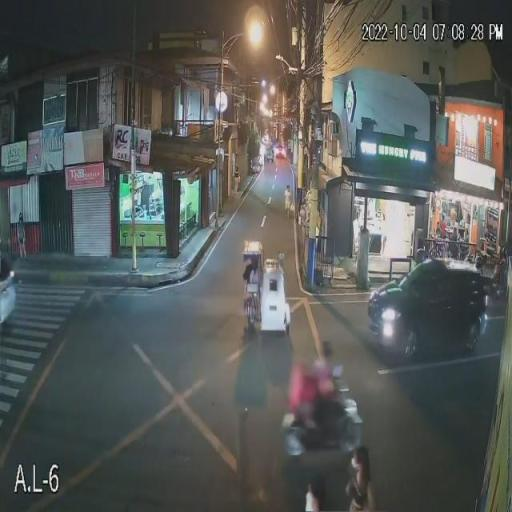helmet: (318, 338, 338, 362)
motorcycle: (278, 398, 367, 457)
rider: (313, 367, 343, 443)
